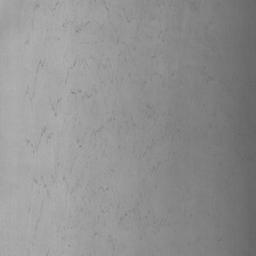Silk spot: (71, 89, 92, 99), (26, 139, 40, 154), (75, 21, 90, 33), (36, 59, 48, 73), (51, 98, 62, 111)
